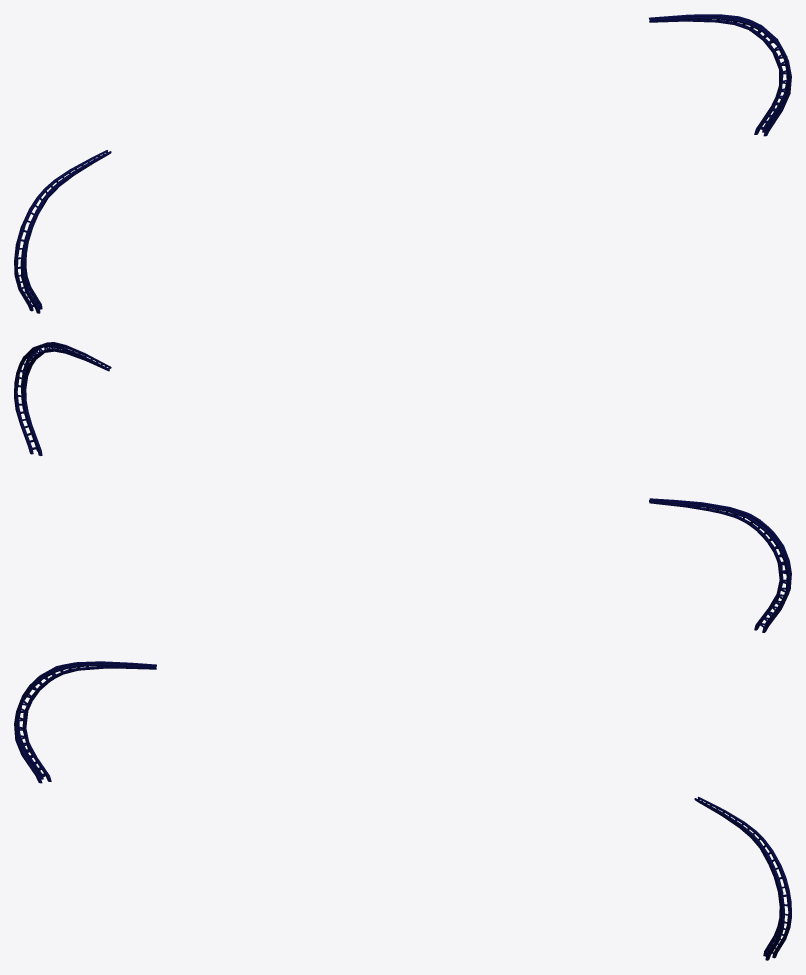
Rendered from Al_Nasar_Football_Stadium_NurbsPath_017.FBX.
The picture shows the model from 3 angles, top to bottom: view 1: azimuth 30°, elevation 25°; view 2: azimuth 150°, elevation 25°; view 3: azimuth 330°, elevation 25°; orthographic projection.
Visible parts, largest first — view 1: Al_Nasar_Football_Stadium_NurbsPath_017; view 2: Al_Nasar_Football_Stadium_NurbsPath_017; view 3: Al_Nasar_Football_Stadium_NurbsPath_017.
Boxes of the visible parts, left/top/right/bottom form: Al_Nasar_Football_Stadium_NurbsPath_017: left=14, top=14, right=791, bottom=313; Al_Nasar_Football_Stadium_NurbsPath_017: left=14, top=342, right=791, bottom=632; Al_Nasar_Football_Stadium_NurbsPath_017: left=14, top=661, right=791, bottom=960.
Size of the model in its own units: 25463 by 1694 by 3871.
